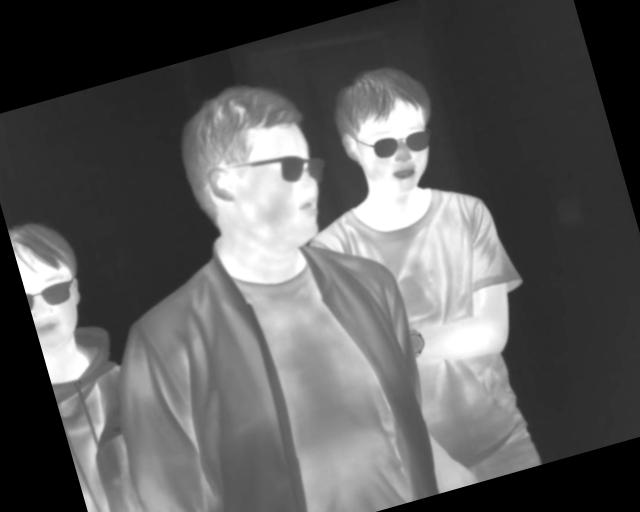face: (163, 67, 337, 271), (324, 55, 450, 206), (7, 211, 97, 350)
